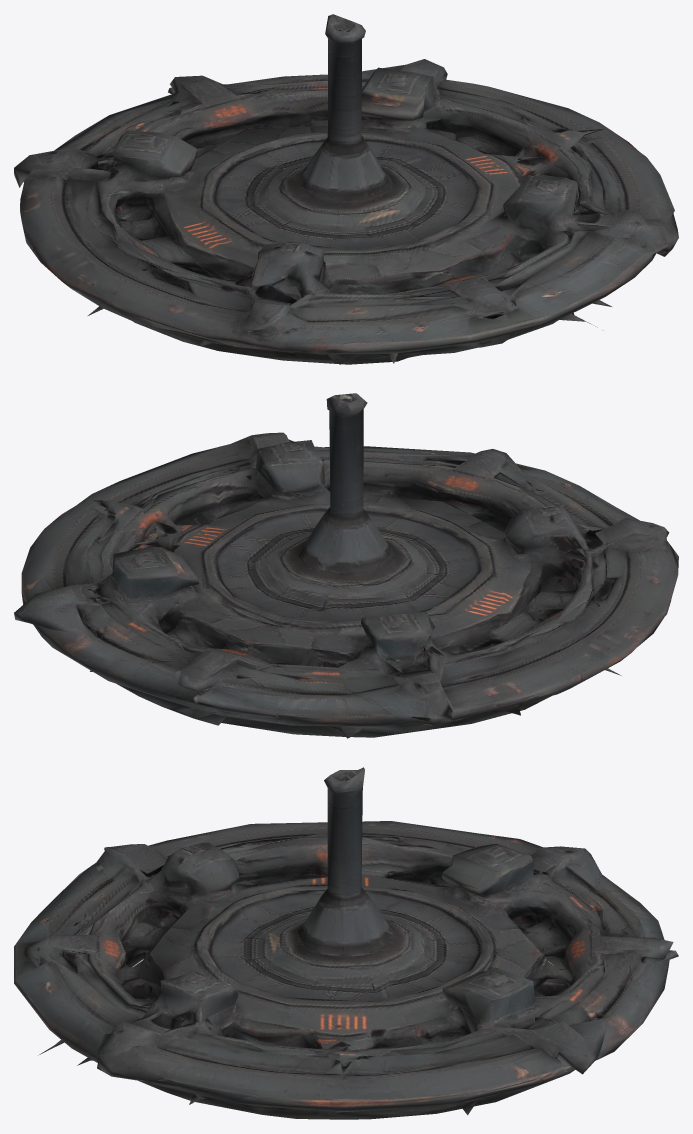
3 views of the same model, one above another, from view 1: azimuth 30°, elevation 25°; view 2: azimuth 150°, elevation 25°; view 3: azimuth 270°, elevation 25° (orthographic).
Visible parts, largest first — view 1: Mesh_0; view 2: Mesh_0; view 3: Mesh_0.
Part boxes in pixels (x1,y1,x2,y2): Mesh_0: (14, 14, 678, 364); Mesh_0: (14, 393, 678, 738); Mesh_0: (14, 767, 678, 1119).
Bounding box in the file's own units: 1.92 × 0.848 × 1.91.
1 material, 1 textured.
